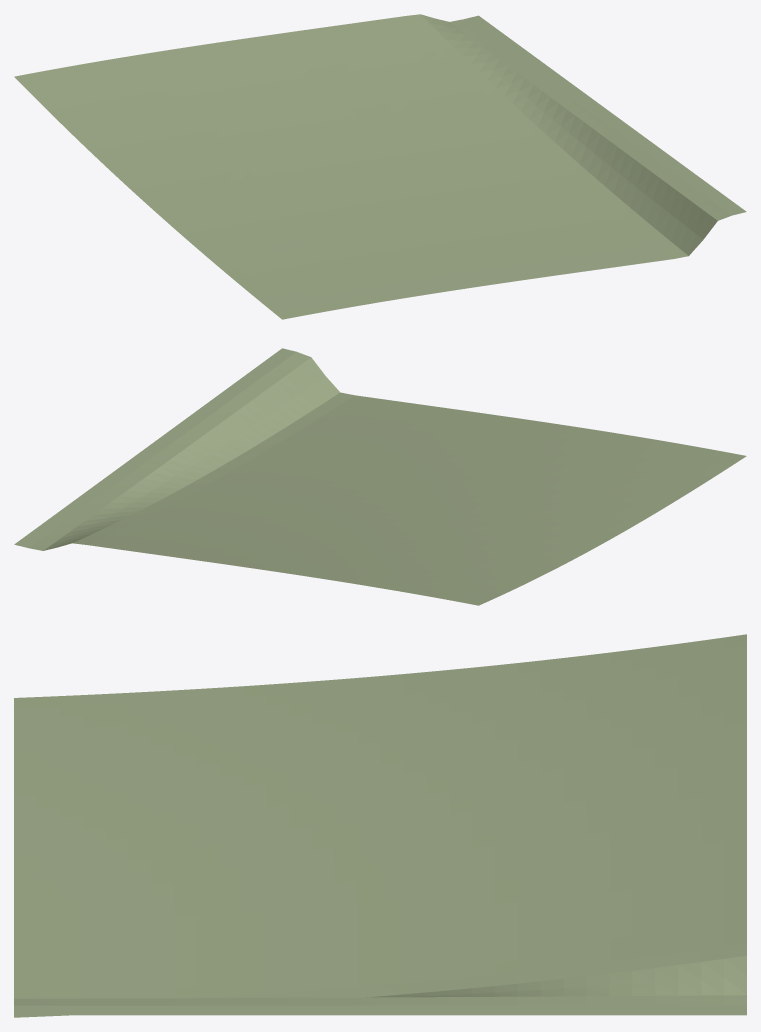
Rendered from valley-7-3.glb.
3 views of the same model, one above another, from view 1: azimuth 30°, elevation 25°; view 2: azimuth 150°, elevation 25°; view 3: azimuth 270°, elevation 25° (orthographic). The views are drawn at different scales.
Parts seen in each view (by area): view 1: valley-7-3; view 2: valley-7-3; view 3: valley-7-3.
Boxes of the visible parts, bbox=[...] form: valley-7-3: bbox=[14, 14, 746, 319]; valley-7-3: bbox=[14, 348, 746, 605]; valley-7-3: bbox=[14, 634, 746, 1017].
Size of the model in its own units: 256 by 43.34 by 256.
